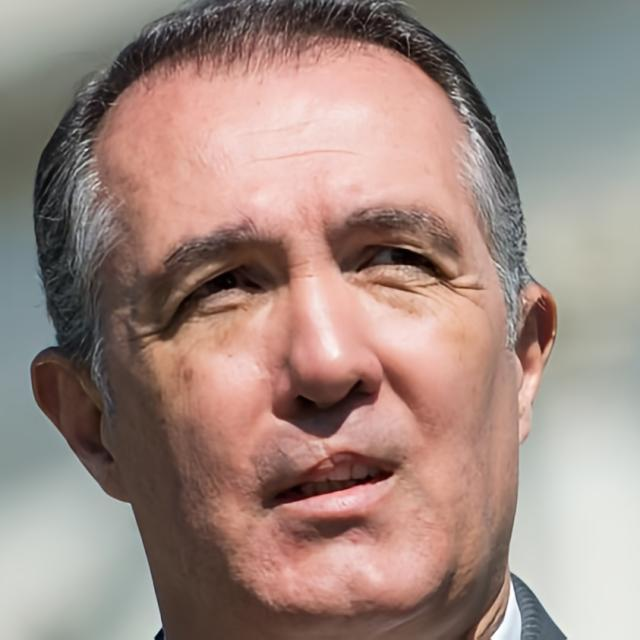disgust: (89, 30, 520, 640)
